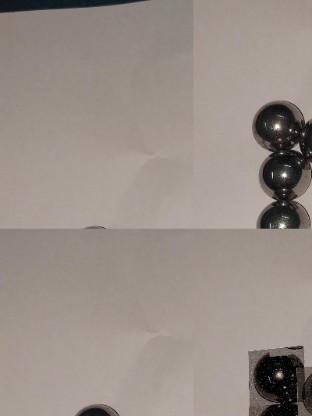ironball: (246, 350, 304, 410), (257, 144, 312, 201), (254, 96, 304, 147), (254, 201, 310, 229), (295, 367, 311, 415), (71, 402, 125, 414)
